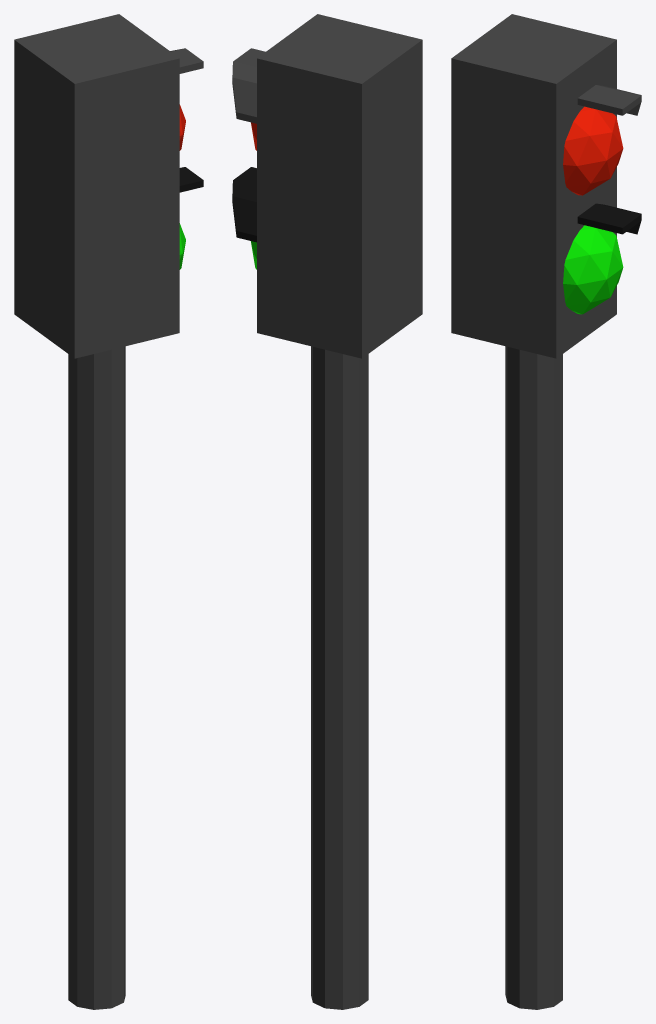
The picture shows the model from 3 angles, left to right: view 1: azimuth 30°, elevation 25°; view 2: azimuth 150°, elevation 25°; view 3: azimuth 330°, elevation 25°; orthographic projection.
Size of the model in its own units: 2.86 by 17.26 by 2.
